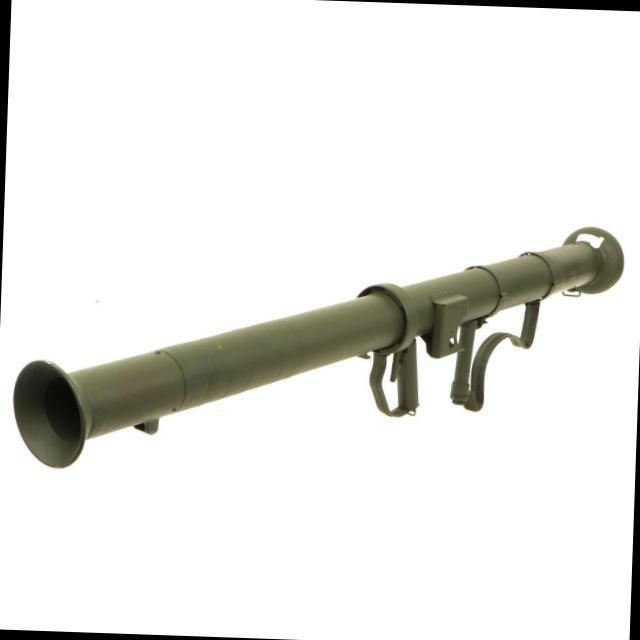rocket: (13, 203, 620, 484)
